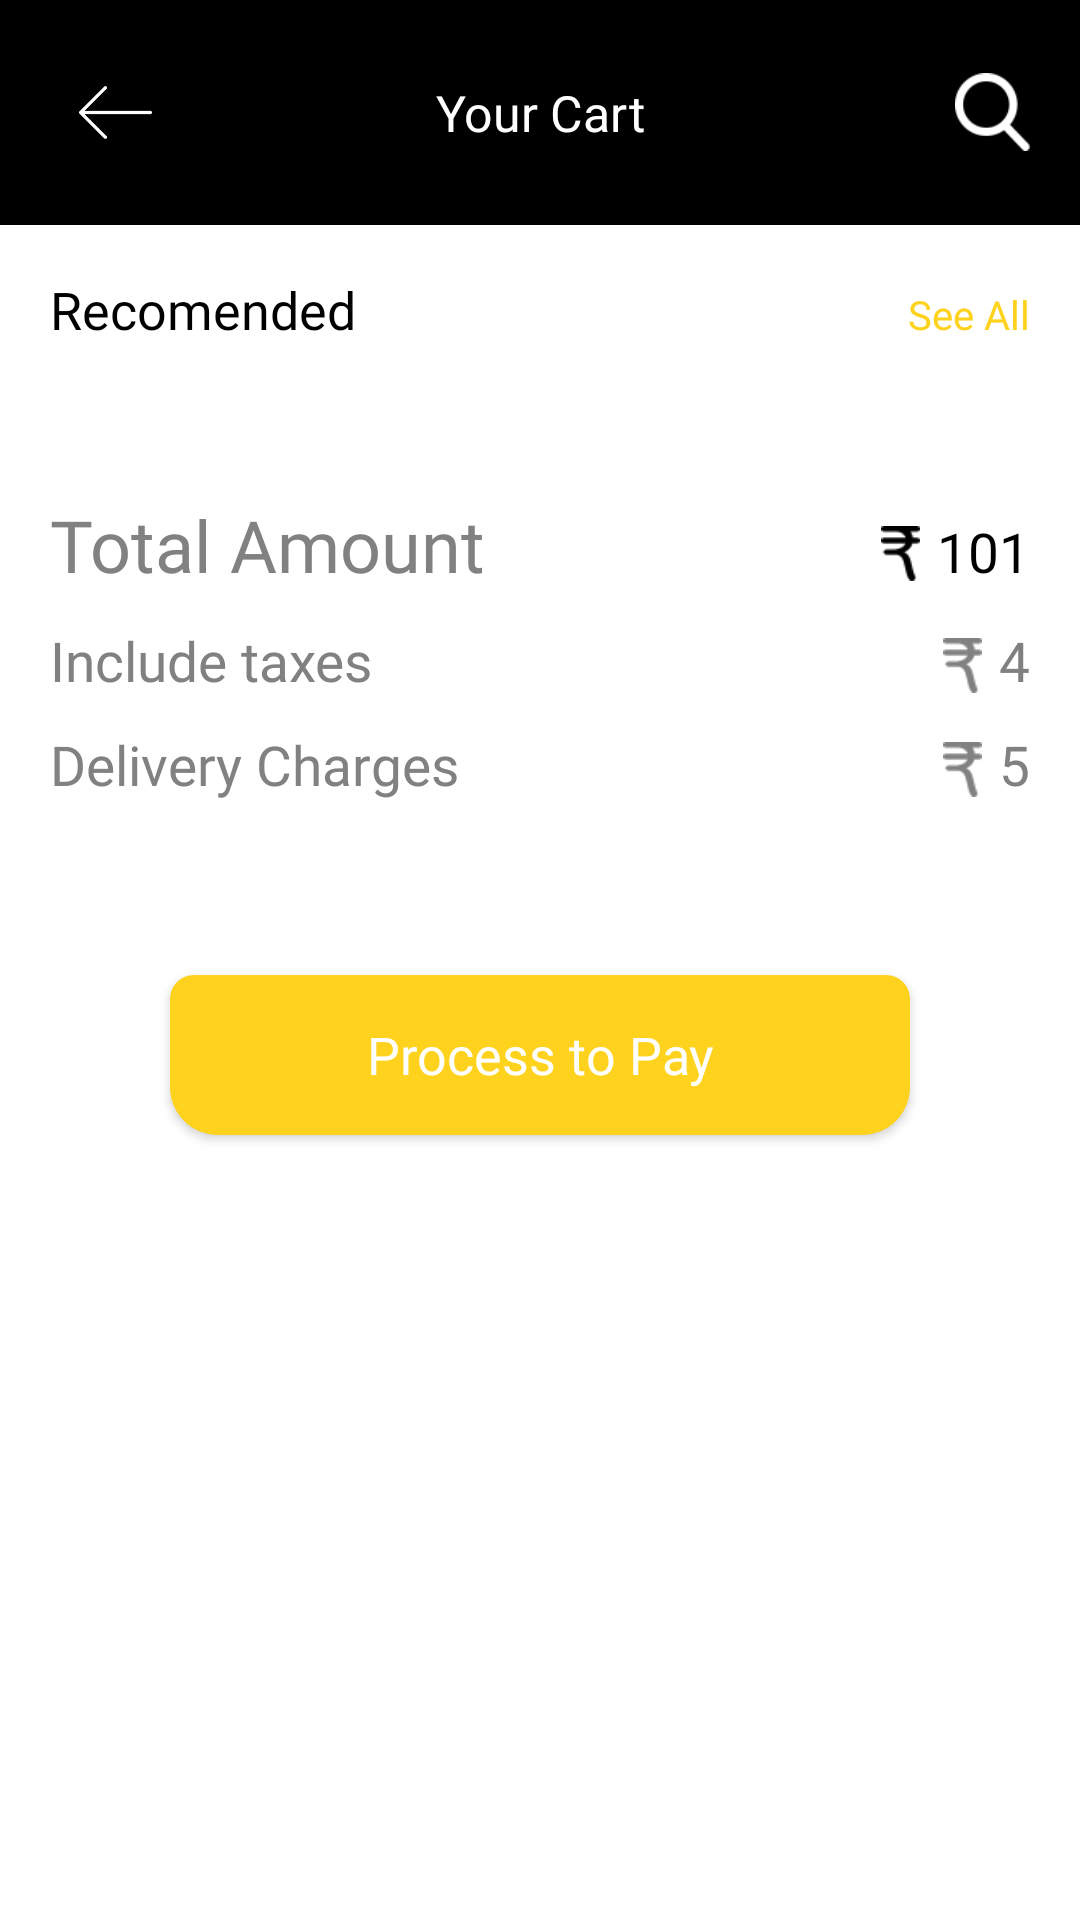

Locate icon controls on the screen. Image size 1080 × 1920, boxes as [x1=x1, y1=y1, x2=x2, y2=y2].
india rupee: [x1=881, y1=526, x2=920, y2=581], [x1=943, y1=638, x2=982, y2=693], [x1=943, y1=742, x2=982, y2=797]
left arrow: [x1=79, y1=86, x2=152, y2=139]
search: [x1=955, y1=73, x2=1030, y2=151]
